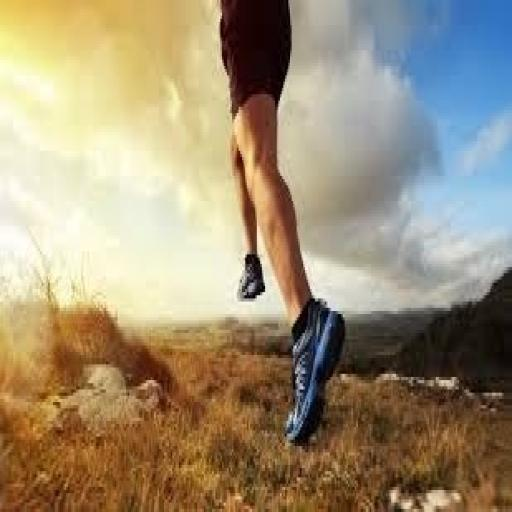running: (215, 0, 348, 449)
